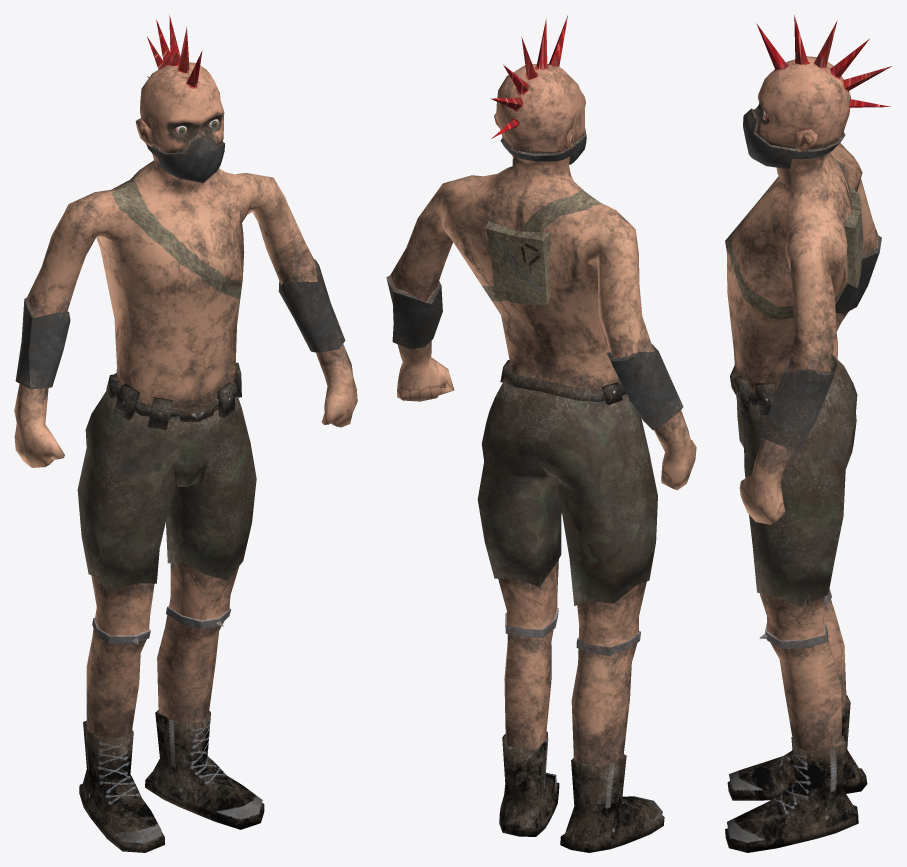
File: Anim_disparar_pistola_npc2.0031.obj
The picture shows the model from 3 angles, left to right: view 1: azimuth 30°, elevation 25°; view 2: azimuth 150°, elevation 25°; view 3: azimuth 270°, elevation 25°; orthographic projection. The views are drawn at different scales.
Parts seen in each view (by area): view 1: polySurface1; view 2: polySurface1; view 3: polySurface1.
Part boxes in pixels (x1=…): polySurface1: x1=14, y1=14, x2=357, y2=852; polySurface1: x1=386, y1=15, x2=696, y2=852; polySurface1: x1=725, y1=15, x2=891, y2=852.
Size of the model in its own units: 4.25 by 10.26 by 1.92.
2 materials, 2 textured.
